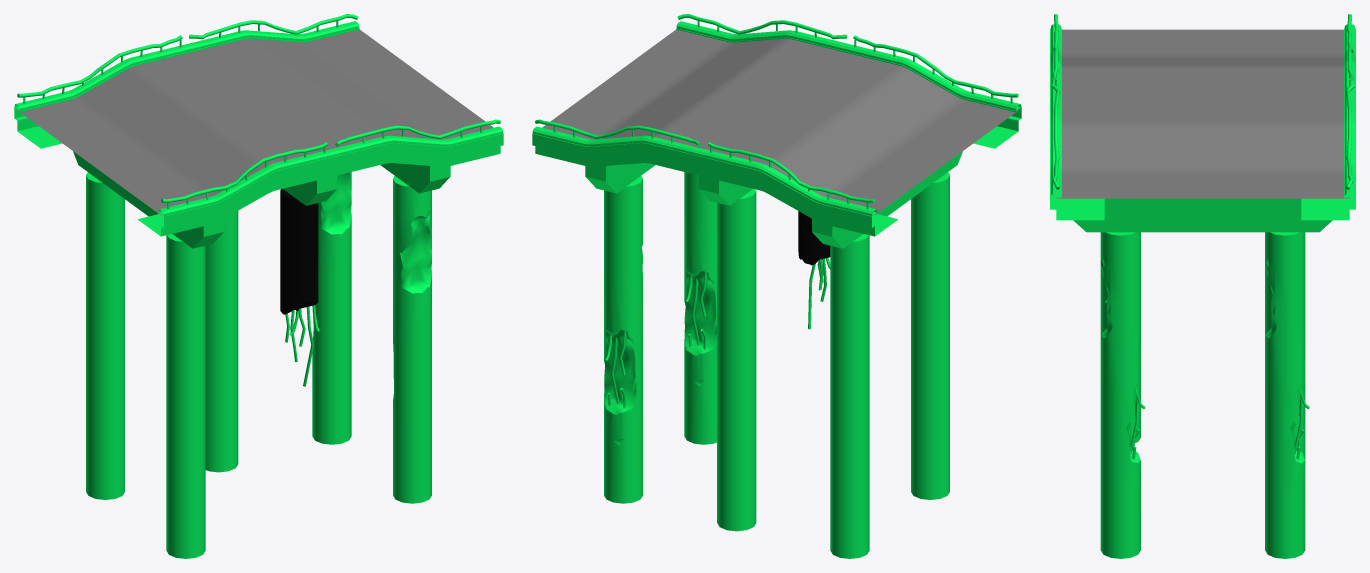
File: Track_Asphalt_05.fbx
The picture shows the model from 3 angles, left to right: view 1: azimuth 30°, elevation 25°; view 2: azimuth 150°, elevation 25°; view 3: azimuth 270°, elevation 25°; orthographic projection. The views are drawn at different scales.
Parts seen in each view (by area): view 1: Track_Asphalt_05, Road; view 2: Track_Asphalt_05, Road; view 3: Road, Track_Asphalt_05.
Part boxes in pixels (x1,y1,x2,y2): Track_Asphalt_05: (14, 14, 503, 558); Road: (17, 29, 493, 215); Track_Asphalt_05: (532, 14, 1021, 558); Road: (542, 29, 1018, 215); Road: (1056, 29, 1349, 198); Track_Asphalt_05: (1050, 14, 1355, 558).
Size of what is drawn, in the model's own units: 3004 by 2291 by 3427.
